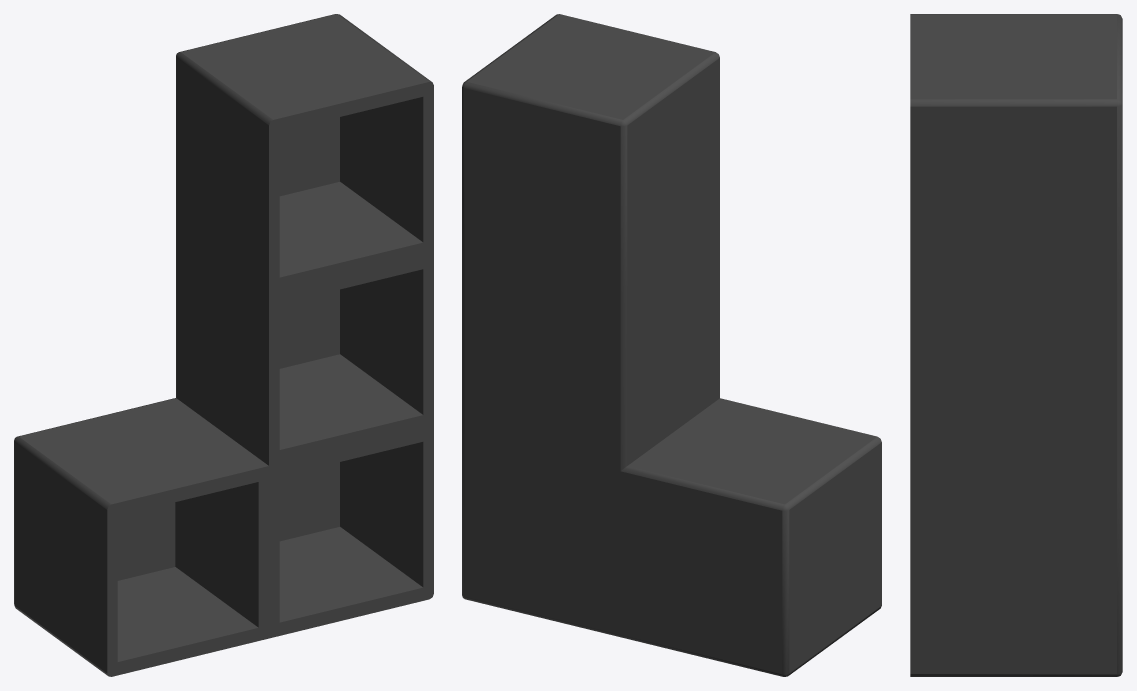
File: R_LBoxShelf.fbx
3 renders of one model, left to right at view 1: azimuth 30°, elevation 25°; view 2: azimuth 150°, elevation 25°; view 3: azimuth 270°, elevation 25°, orthographic. The views are drawn at different scales.
Visible parts, largest first — view 1: polySurface5; view 2: polySurface5; view 3: polySurface5.
Part boxes in pixels (bbox=[...]): polySurface5: bbox=[14, 14, 433, 676]; polySurface5: bbox=[462, 14, 881, 676]; polySurface5: bbox=[910, 14, 1122, 676].
Size of the model in its own units: 1.98 by 3 by 1.
Materials: 1 (1 with a texture image).
